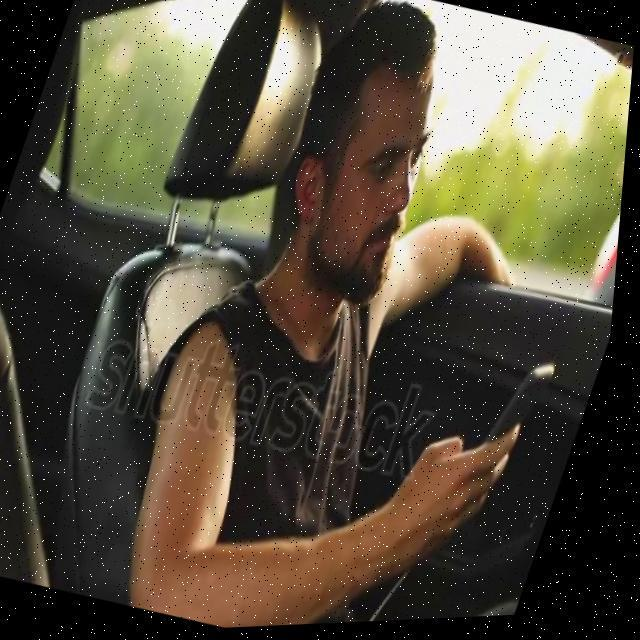PhoneCall: (486, 358, 564, 483)
